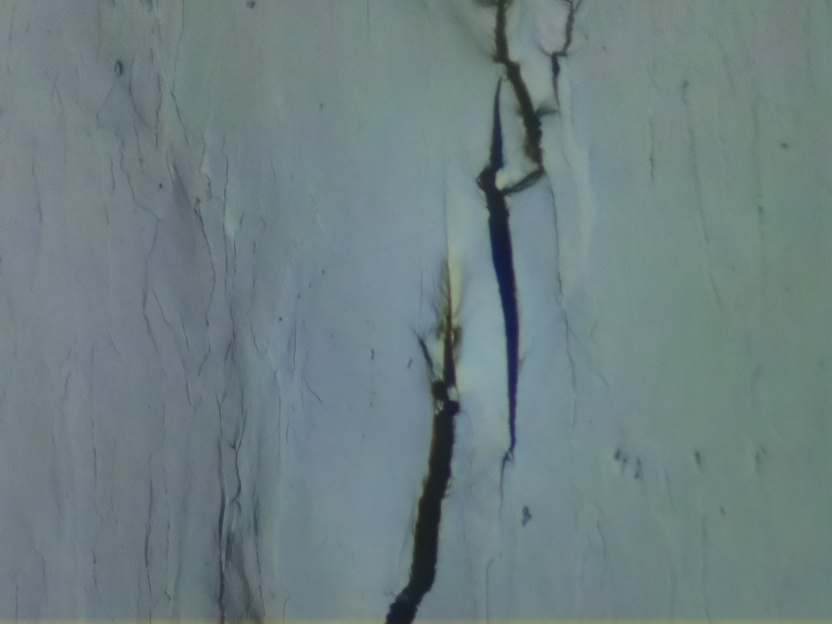crack: (462, 0, 547, 508), (384, 267, 462, 624)
